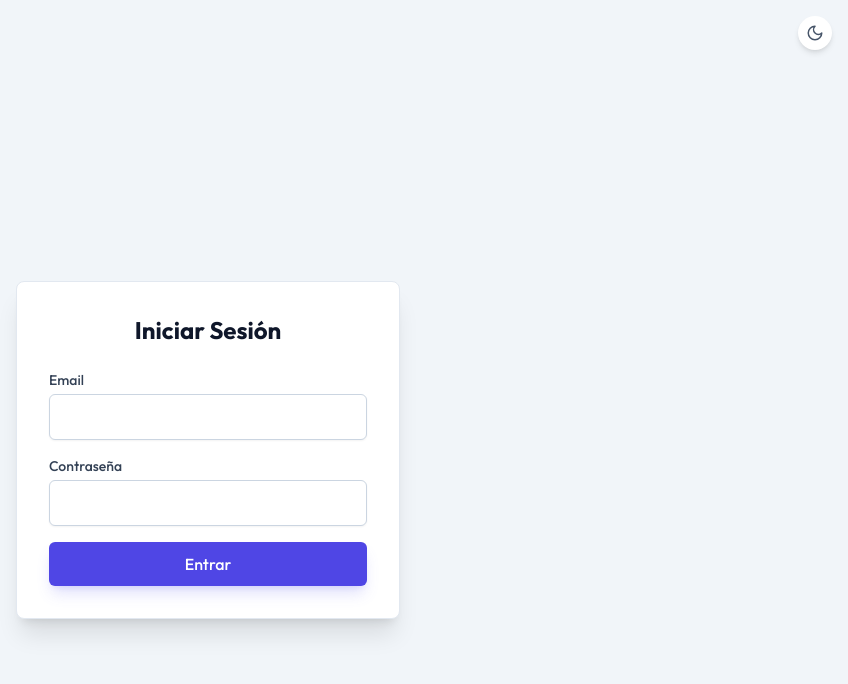
Test: Login Page › should show error with incorrect credentials
The image size is (848, 684).
Step 1. Type "wrong@example.com" into the field → (208, 417), box [49,394,367,440]
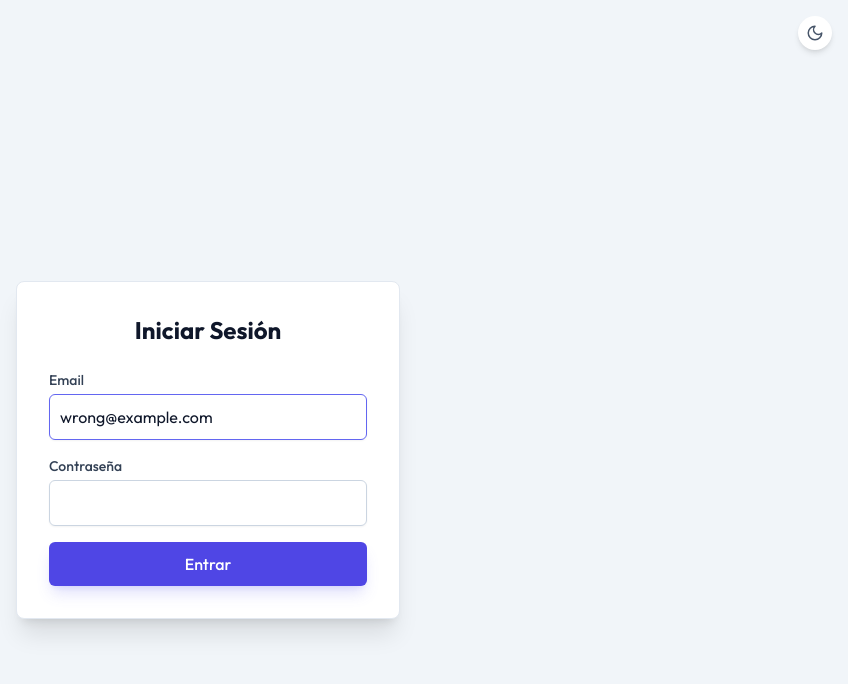
Step 2. Type "wrongpassword" into the password field → (208, 503), box [49,480,367,526]
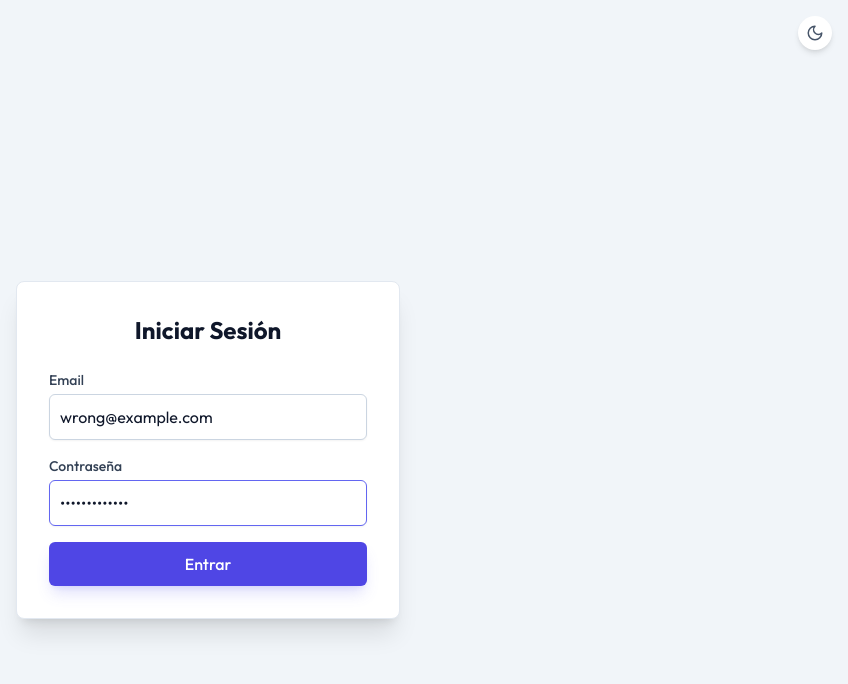
Step 3. Click the button "Entrar" → click(208, 564), box [49,542,367,586]
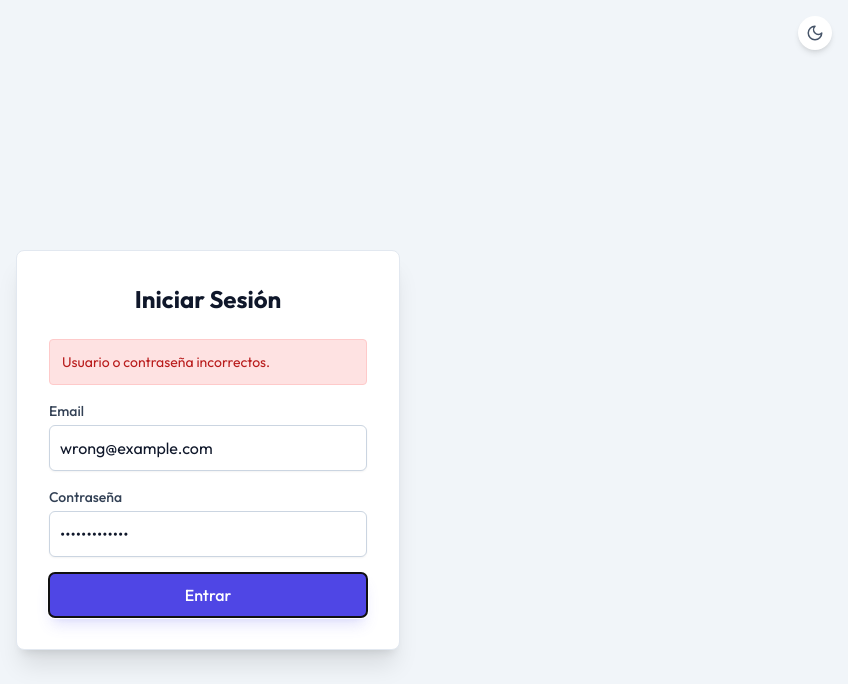
Check: the text "Usuario o contraseña incorrectos." is shown, box [49,339,367,385]
